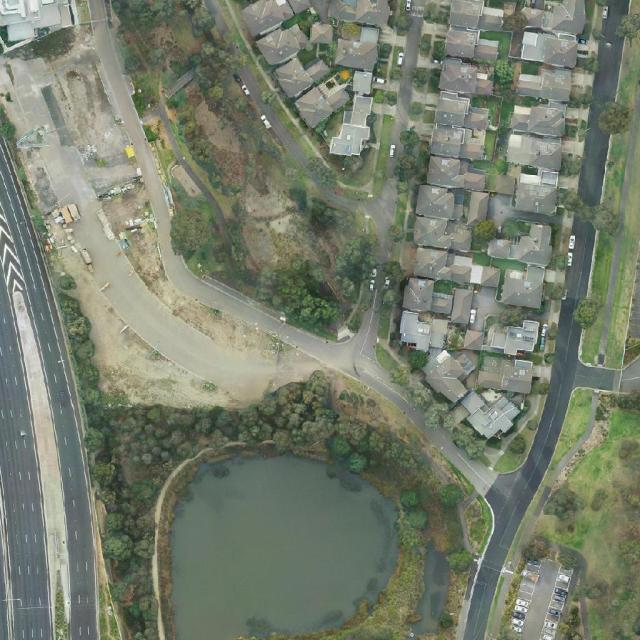building: (454, 377, 524, 446), (399, 273, 478, 327), (291, 72, 352, 130), (255, 18, 312, 70), (480, 318, 543, 359), (428, 123, 487, 163), (334, 22, 382, 71), (505, 132, 563, 171), (500, 261, 545, 309), (477, 356, 535, 393), (509, 101, 567, 137), (272, 56, 315, 101), (516, 222, 556, 268), (516, 70, 571, 103), (414, 183, 459, 222), (432, 88, 471, 130), (439, 57, 479, 96), (513, 182, 559, 215), (330, 123, 370, 157), (399, 310, 432, 351), (412, 216, 454, 248), (542, 36, 580, 70), (426, 157, 466, 189), (413, 247, 448, 281), (444, 28, 479, 59), (521, 31, 547, 63), (343, 111, 368, 126), (360, 26, 378, 43)
dryland: (13, 249, 239, 463)
greenland: (57, 246, 379, 640), (265, 255, 344, 341)
metalled_road: (443, 219, 623, 640), (0, 139, 99, 640), (575, 0, 630, 207)
unmetalled_road: (0, 0, 434, 468), (31, 132, 164, 342)
wetland: (170, 453, 398, 640)
